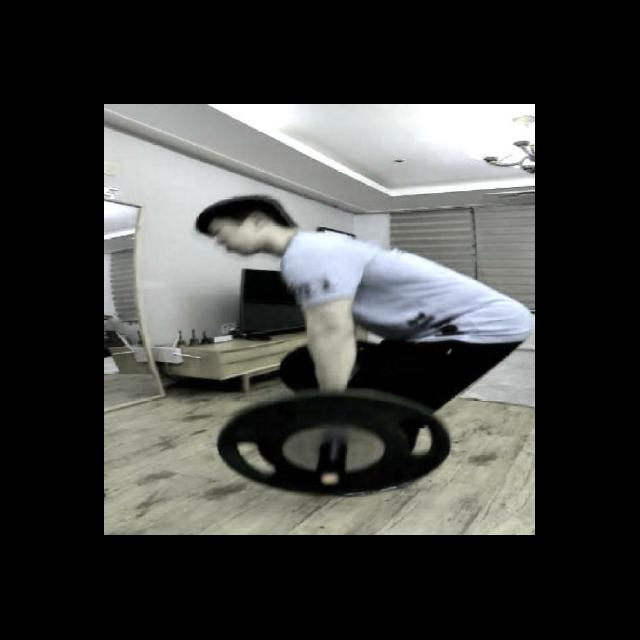barbell: (207, 384, 463, 502)
